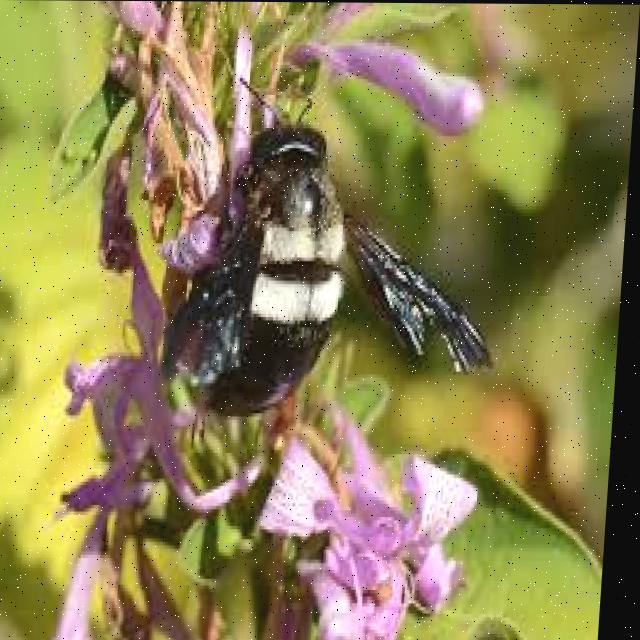Xylocopa: (154, 78, 500, 472)
